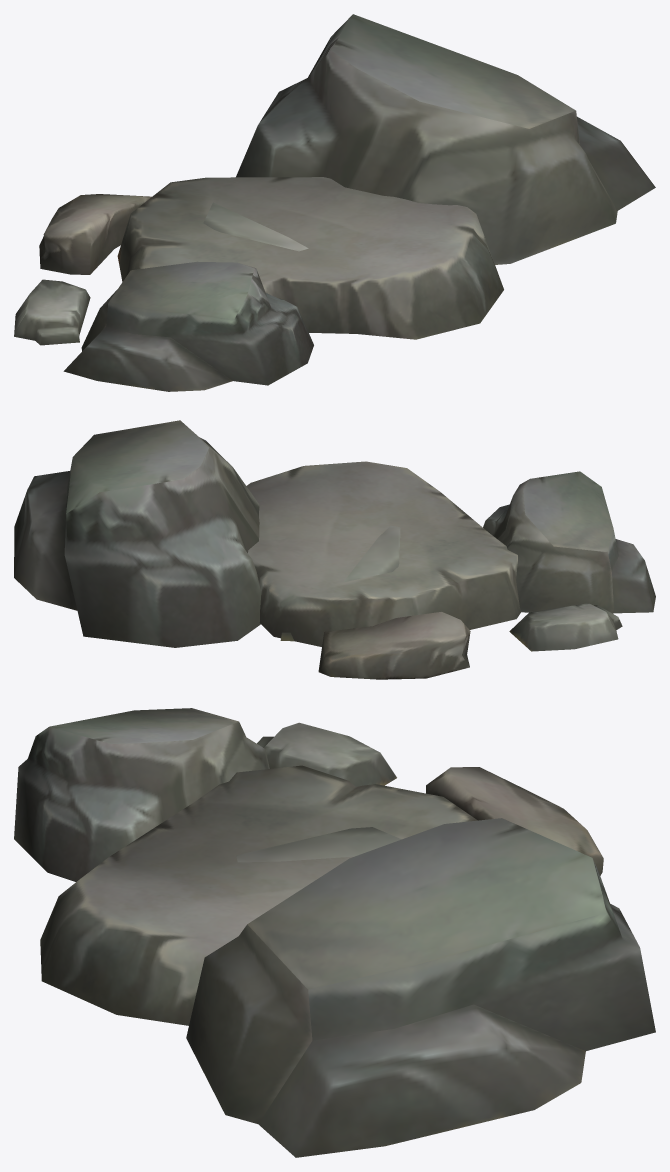
The model's file is wujian4.fbx.
The picture shows the model from 3 angles, top to bottom: view 1: azimuth 30°, elevation 25°; view 2: azimuth 150°, elevation 25°; view 3: azimuth 270°, elevation 25°; orthographic projection. The views are drawn at different scales.
Parts seen in each view (by area): view 1: wujian4; view 2: wujian4; view 3: wujian4.
Part boxes in pixels (x1=…): wujian4: x1=14, y1=14, x2=655, y2=391; wujian4: x1=14, y1=420, x2=655, y2=679; wujian4: x1=14, y1=708, x2=655, y2=1157.
Bounding box in the file's own units: 1097 × 229 × 728.
